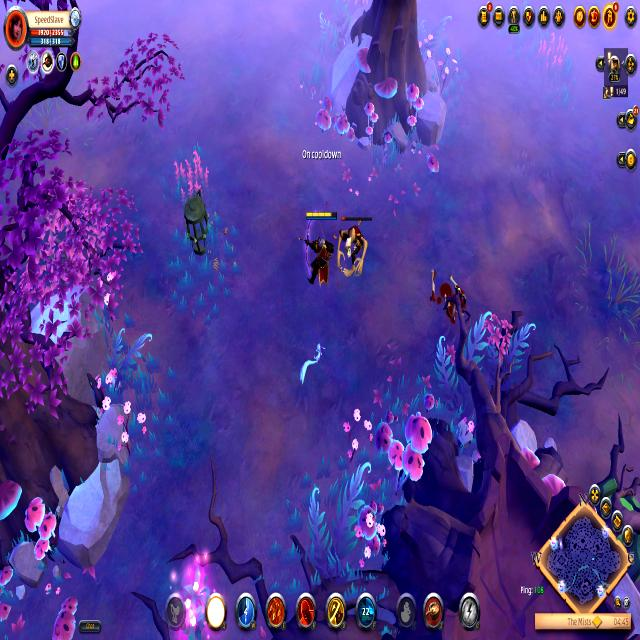hide: (164, 559, 218, 640)
red: (300, 206, 339, 291), (337, 212, 373, 279)
